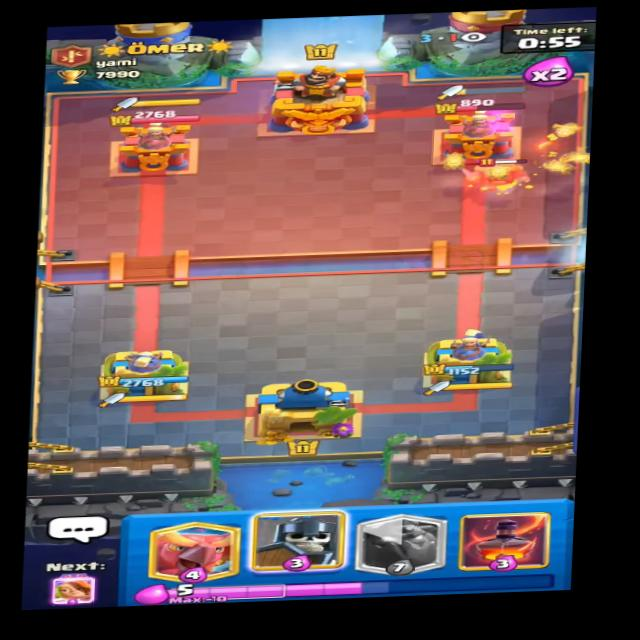knight: (468, 149, 536, 193)
